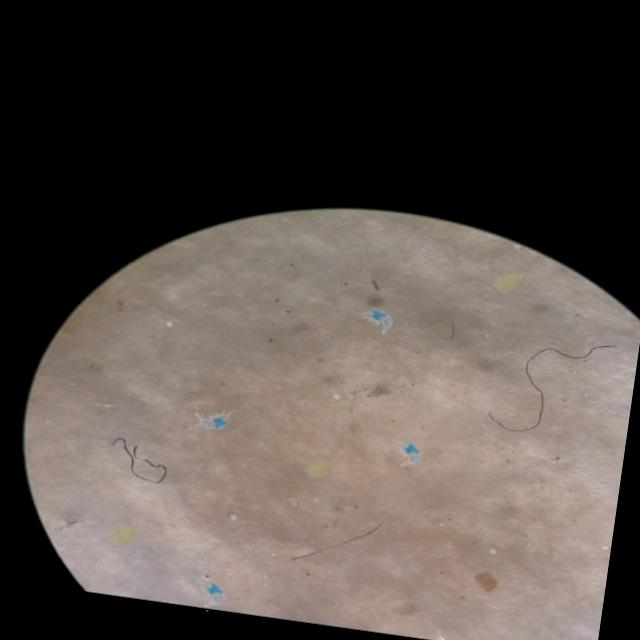fiber: (489, 347, 611, 432), (291, 524, 382, 560), (112, 438, 167, 484)
film: (196, 411, 230, 430), (399, 443, 421, 466), (201, 575, 220, 597), (364, 317, 391, 332)
fragment: (473, 573, 498, 592), (306, 460, 331, 478), (495, 274, 518, 292), (113, 526, 134, 544)
pellet: (165, 321, 172, 327), (333, 393, 340, 399), (489, 548, 496, 554), (230, 515, 236, 519)
